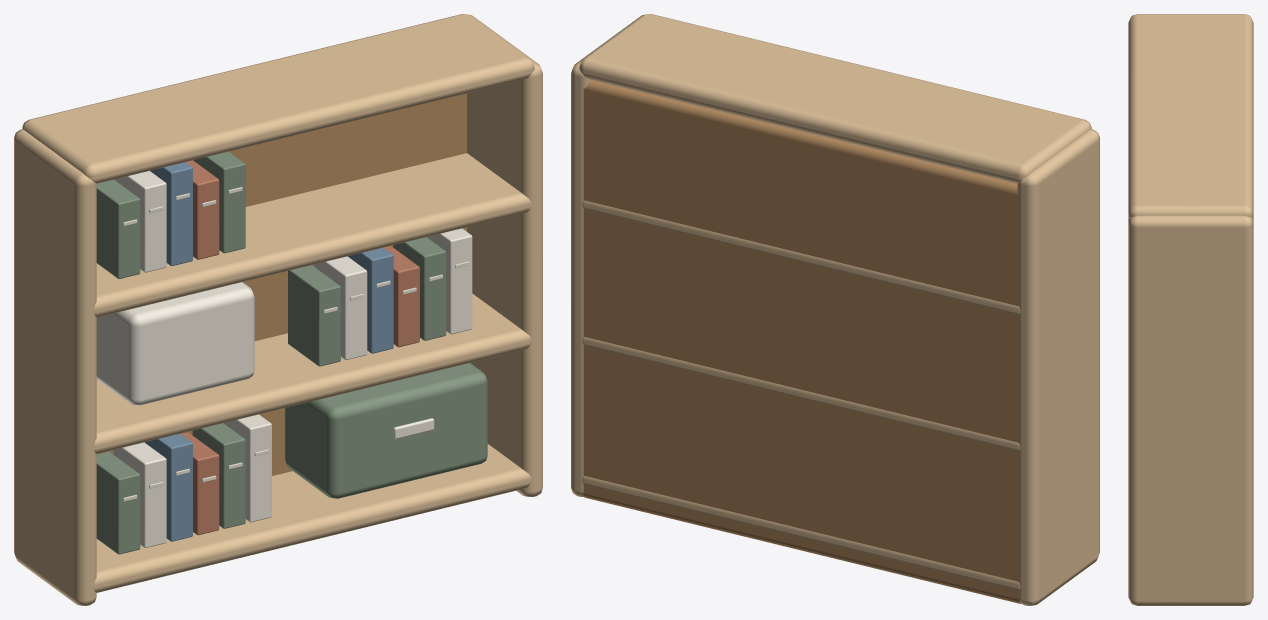
File: bookshelf.glb
The picture shows the model from 3 angles, left to right: view 1: azimuth 30°, elevation 25°; view 2: azimuth 150°, elevation 25°; view 3: azimuth 270°, elevation 25°; orthographic projection. The views are drawn at different scales.
Visible parts, largest first — view 1: Bookshelf_oakLight, Bookshelf_sage, Bookshelf_cream, Bookshelf_oakDark, Bookshelf_blue, Bookshelf_terra, Bookshelf_paper; view 2: Bookshelf_oakDark, Bookshelf_oakLight; view 3: Bookshelf_oakLight.
Part boxes in pixels (box(x1,y1,x2,y2)): Bookshelf_oakLight: box(14, 14, 542, 605); Bookshelf_sage: box(96, 151, 487, 554); Bookshelf_cream: box(96, 171, 472, 547); Bookshelf_oakDark: box(96, 93, 466, 475); Bookshelf_blue: box(145, 162, 393, 541); Bookshelf_terra: box(181, 160, 419, 535); Bookshelf_paper: box(123, 187, 469, 501); Bookshelf_oakDark: box(583, 80, 1021, 603); Bookshelf_oakLight: box(571, 14, 1099, 605); Bookshelf_oakLight: box(1128, 14, 1253, 605).
Bounding box in the file's own units: 1.87 × 1.68 × 0.48.
